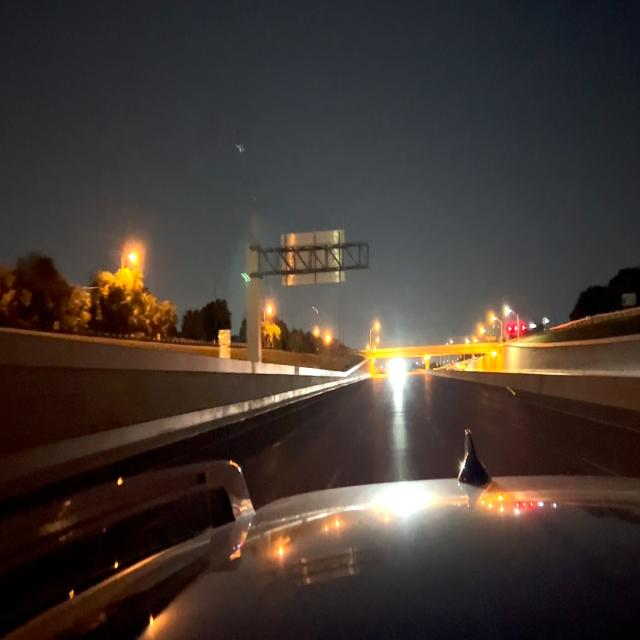back-of-sign: (284, 231, 345, 288)
